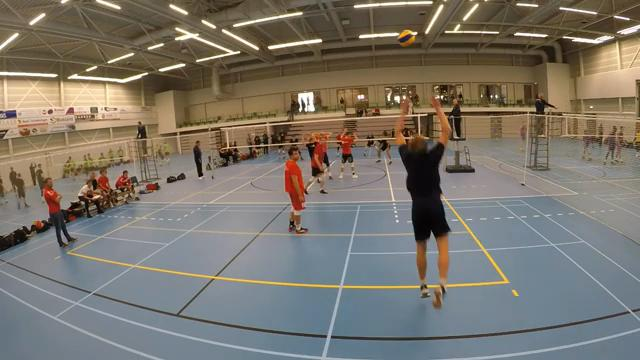Player: (284, 146, 307, 233), (305, 133, 327, 193), (337, 129, 357, 178), (320, 132, 332, 179), (376, 130, 391, 164), (305, 133, 317, 158), (364, 132, 373, 155), (278, 131, 285, 158)
Serve: (390, 95, 460, 308)
ball: (397, 29, 415, 46)
